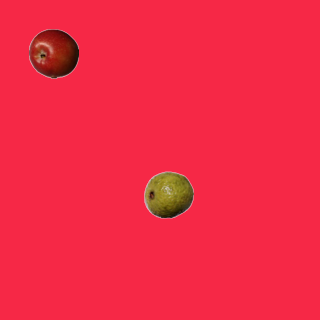Apple Braeburn: (28, 28, 78, 78)
Guava: (143, 169, 193, 219)
